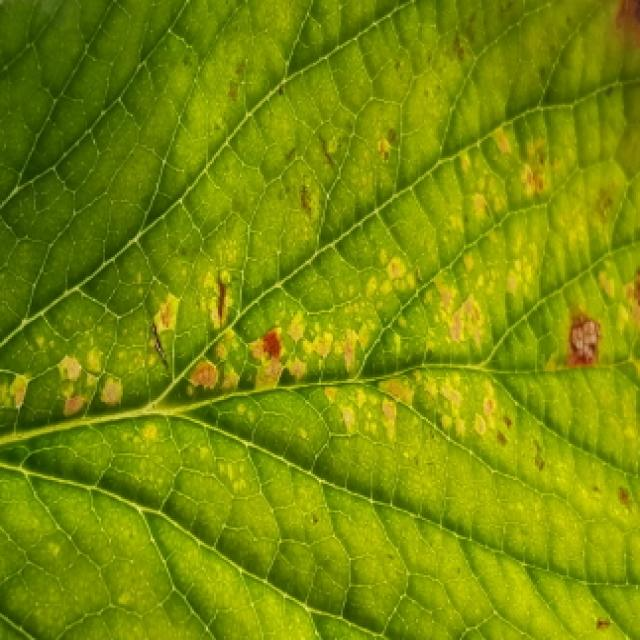Angular Leafspot: (0, 0, 640, 640)
